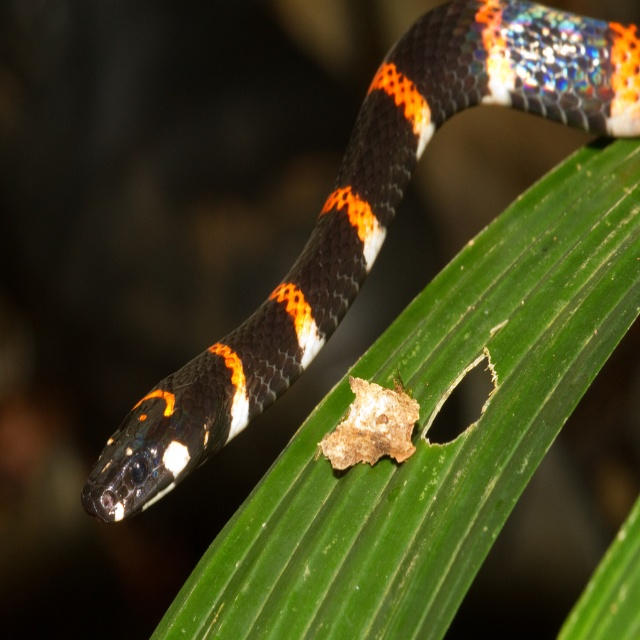Snake: (78, 0, 640, 526)
